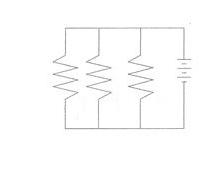resistor: (124, 44, 158, 110), (81, 45, 116, 106), (48, 45, 79, 106)
